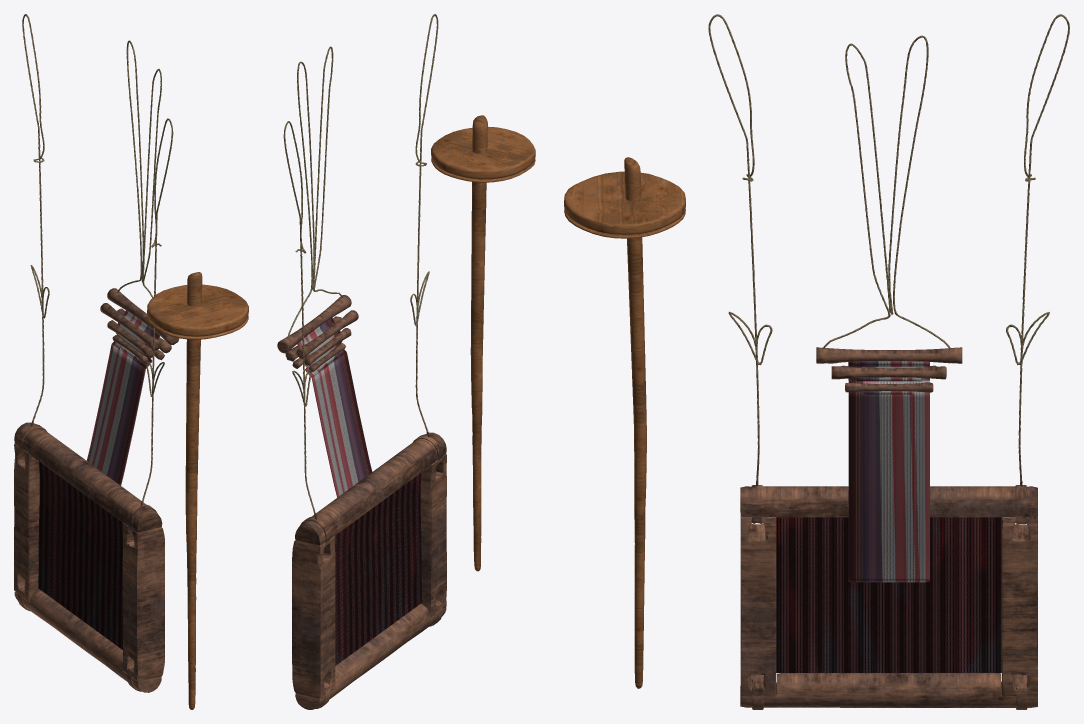
Rendered from métier à tisser.fbx.
The picture shows the model from 3 angles, left to right: view 1: azimuth 30°, elevation 25°; view 2: azimuth 150°, elevation 25°; view 3: azimuth 270°, elevation 25°; orthographic projection. The views are drawn at different scales.
Visible parts, largest first — view 1: Retopo_Plane, files, Retopo_Cylinder.002, Retopo_tresse1, Retopo_Cylinder.001, Retopo_BezierCircle.002, Retopo_Cylinder.003, Retopo_BezierCircle.001; view 2: Retopo_Plane, files, Retopo_Cylinder.002, Retopo_tresse1, Retopo_Cylinder.001, Retopo_BezierCircle.002, Retopo_Cylinder.003; view 3: files, Retopo_Plane, Retopo_Cylinder.002, Retopo_tresse1, Retopo_Cylinder.001, Retopo_BezierCircle.002, Retopo_Cylinder.003.
Boxes of the visible parts, x1,y1,x2,y2 form: Retopo_Plane: (14, 421, 164, 692); files: (38, 461, 122, 649); Retopo_Cylinder.002: (86, 310, 159, 485); Retopo_tresse1: (22, 14, 173, 501); Retopo_Cylinder.001: (185, 272, 202, 709); Retopo_BezierCircle.002: (147, 284, 248, 336); Retopo_Cylinder.003: (100, 288, 179, 363); Retopo_BezierCircle.001: (147, 316, 248, 339); Retopo_Plane: (292, 431, 446, 709); files: (335, 473, 422, 665); Retopo_Cylinder.002: (297, 317, 372, 497); Retopo_tresse1: (283, 14, 438, 513); Retopo_Cylinder.001: (470, 115, 487, 571); Retopo_BezierCircle.002: (431, 126, 535, 179); Retopo_Cylinder.003: (277, 295, 358, 371); files: (776, 517, 1001, 672); Retopo_Plane: (740, 481, 1037, 709); Retopo_Cylinder.002: (848, 361, 929, 582); Retopo_tresse1: (708, 14, 1069, 481); Retopo_Cylinder.001: (624, 157, 646, 688); Retopo_BezierCircle.002: (564, 171, 685, 234); Retopo_Cylinder.003: (816, 347, 962, 392).
Size of the model in its own units: 163 by 870 by 566.
2 materials, 2 textured.
